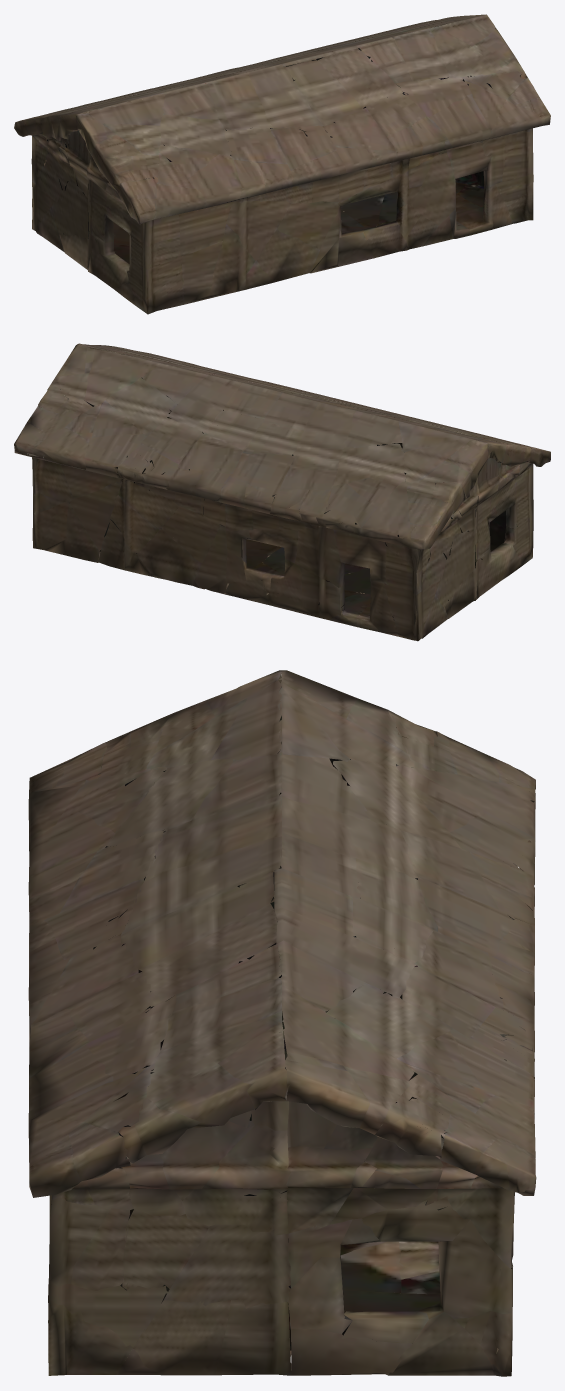
Rendered from woodhouse2.glb.
3 renders of one model, top to bottom at view 1: azimuth 30°, elevation 25°; view 2: azimuth 150°, elevation 25°; view 3: azimuth 270°, elevation 25°, orthographic. The views are drawn at different scales.
Visible parts, largest first — view 1: Object_4, Object_5, Object_6, Object_7; view 2: Object_7, Object_6, Object_5, Object_4; view 3: Object_5, Object_6, Object_7, Object_4.
Part boxes in pixels (box(x1,y1,x2,y2)): Object_4: box(118, 71, 550, 314); Object_5: box(38, 14, 527, 305); Object_6: box(14, 16, 460, 251); Object_7: box(15, 14, 484, 271); Object_7: box(14, 345, 500, 640); Object_6: box(14, 377, 475, 641); Object_5: box(38, 343, 534, 599); Object_4: box(117, 347, 550, 565); Object_5: box(98, 670, 469, 1375); Object_6: box(325, 727, 536, 1376); Object_7: box(235, 670, 536, 1375); Object_4: box(28, 742, 176, 1375).
Bounding box in the file's own units: 2 × 0.7476 × 1.07.
1 material, 1 textured.
